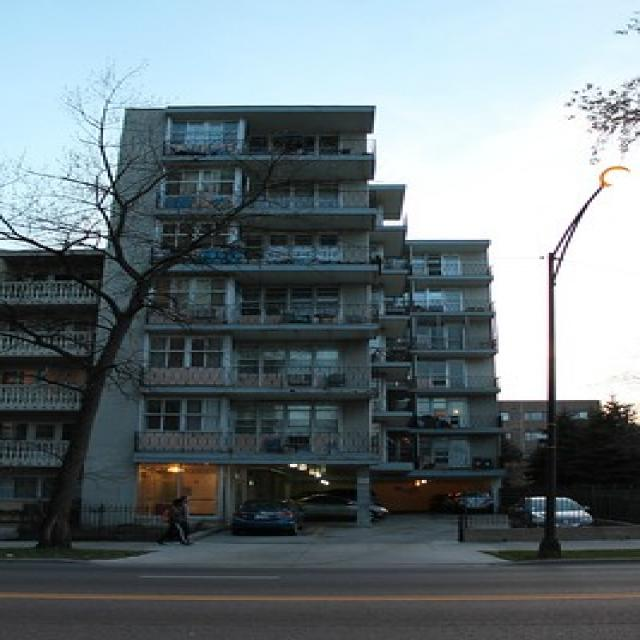Normal_building: (102, 87, 521, 534)
